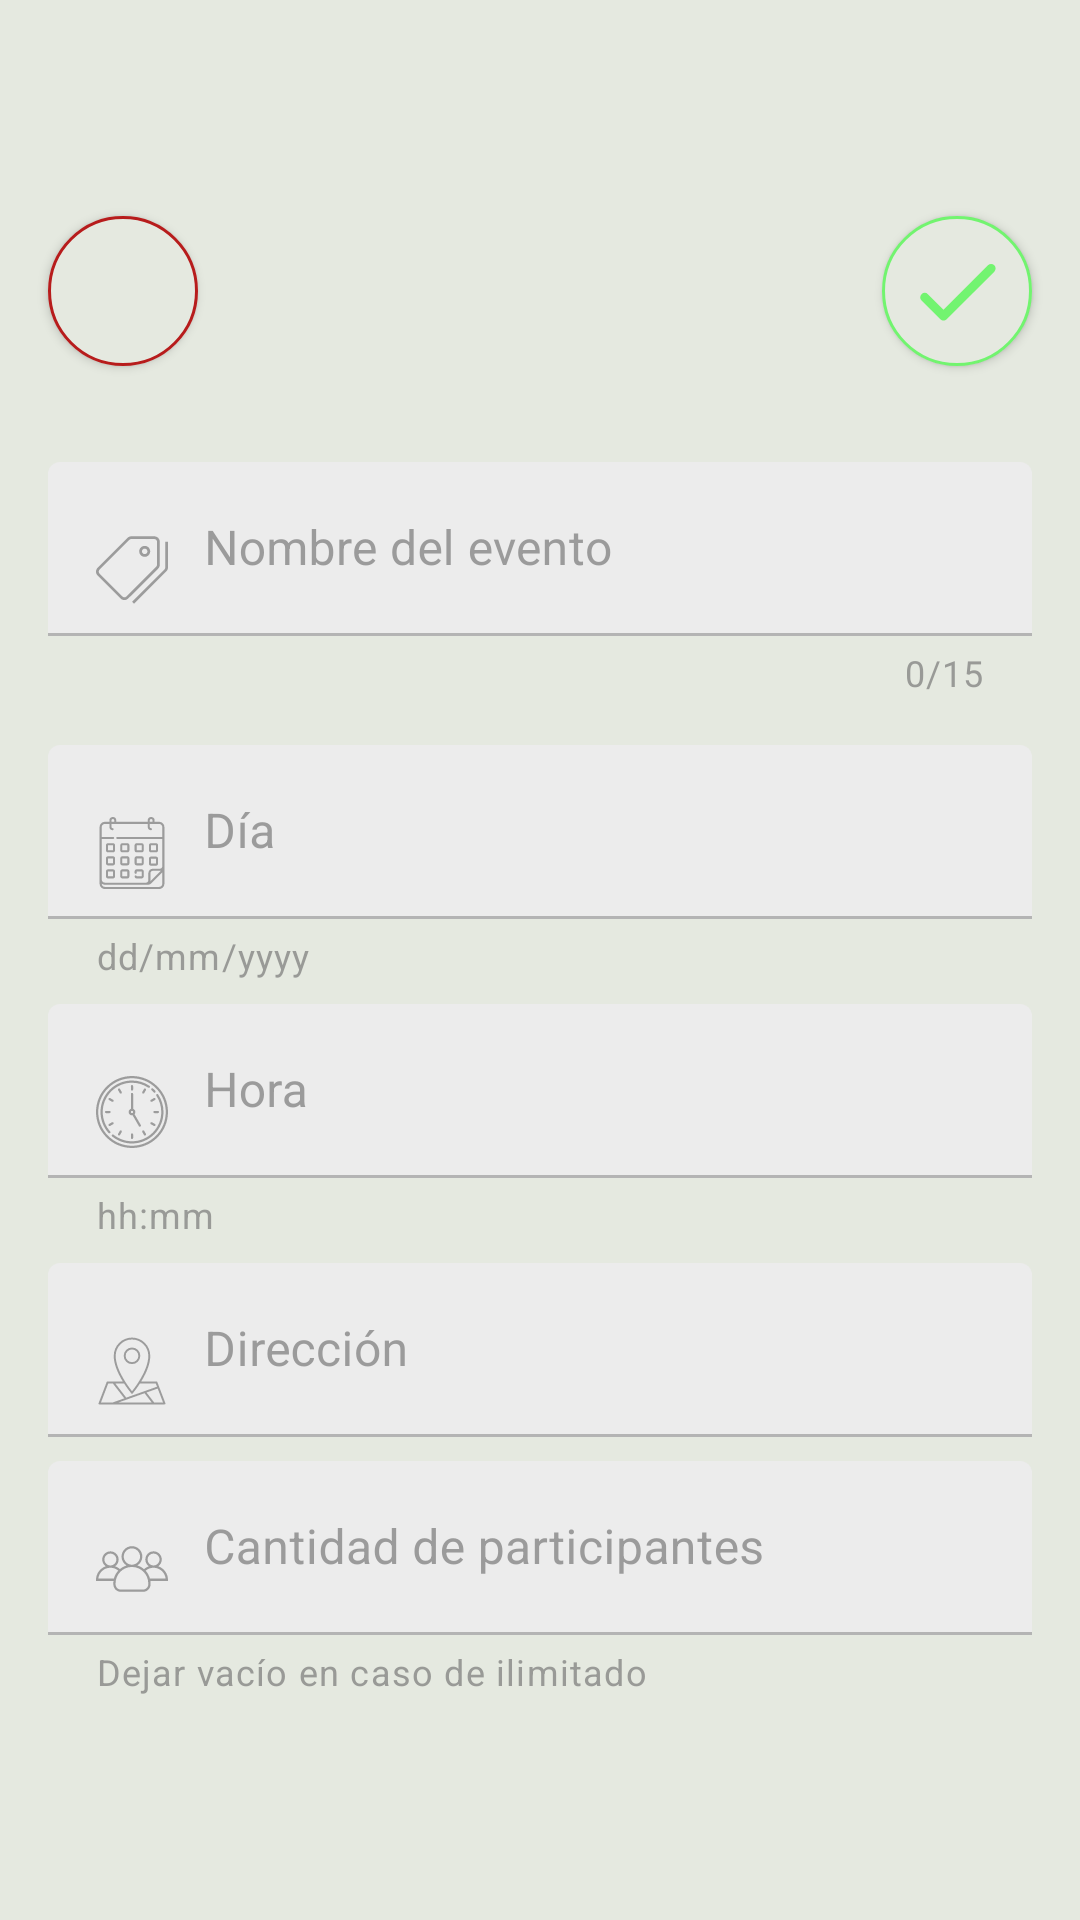

Named icons in this screenshot (1080w x 1920h) and their bounding boxes, (x1,y1,x2,y2):
check: (882,216,1032,366)
